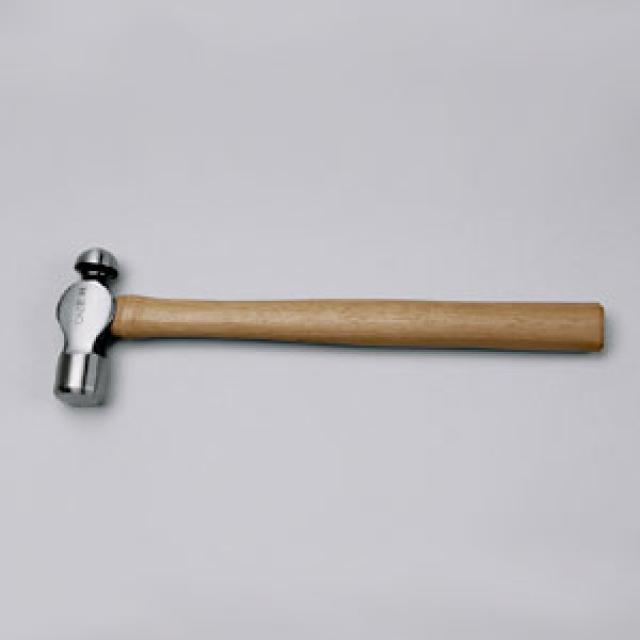hammer: (26, 207, 630, 424)
